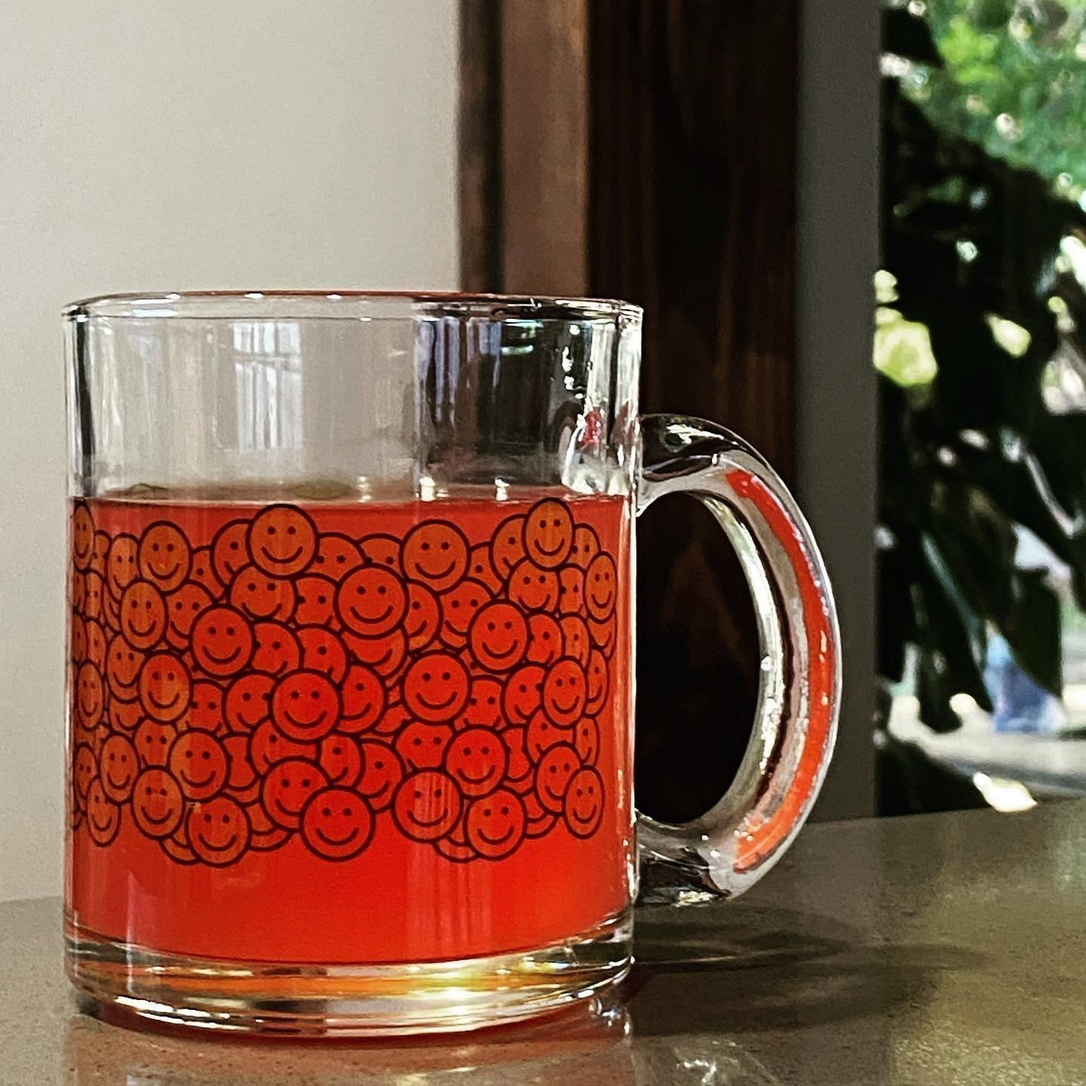glass-mug: (51, 269, 855, 1066)
